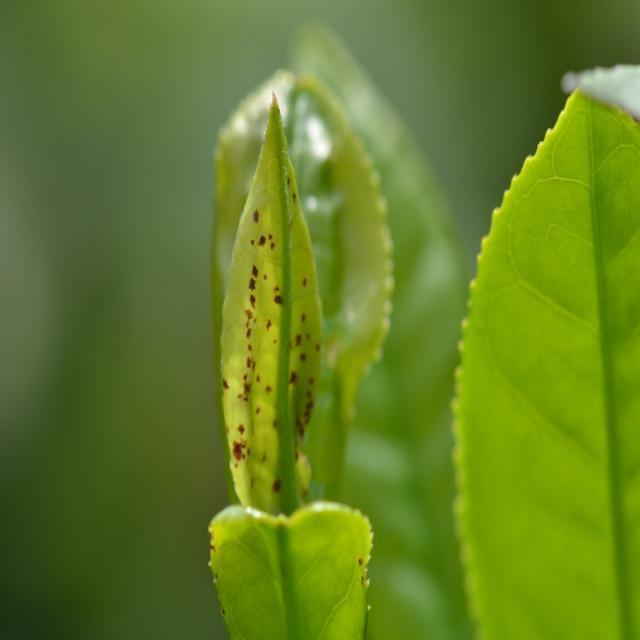Tea red scab: (219, 161, 318, 475)
